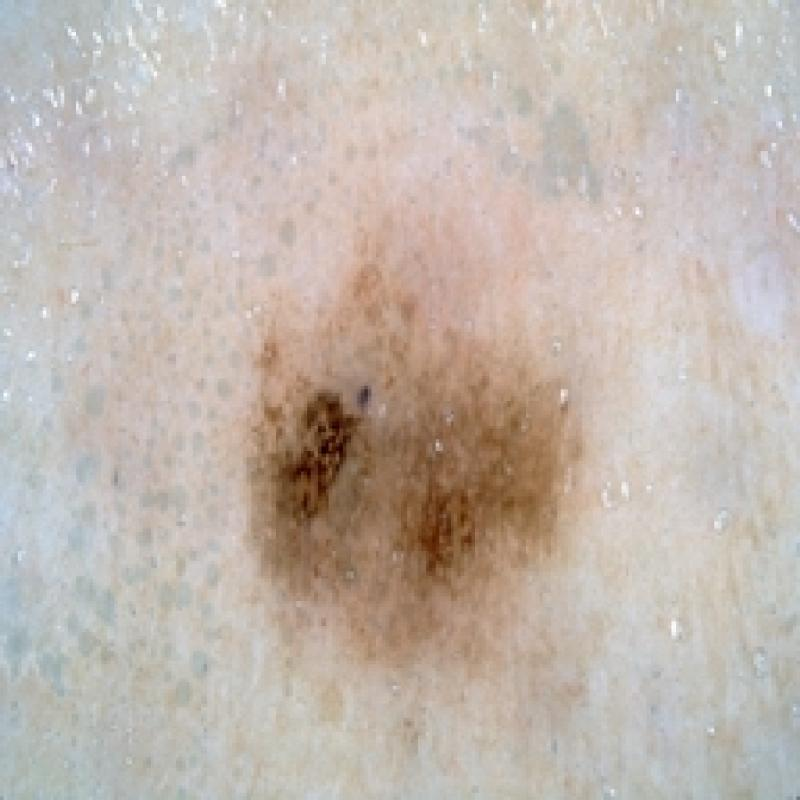malignant: (215, 222, 603, 672)
